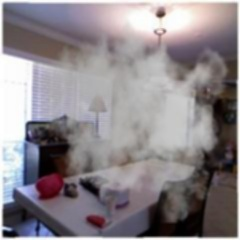smoke: (67, 66, 204, 194)
